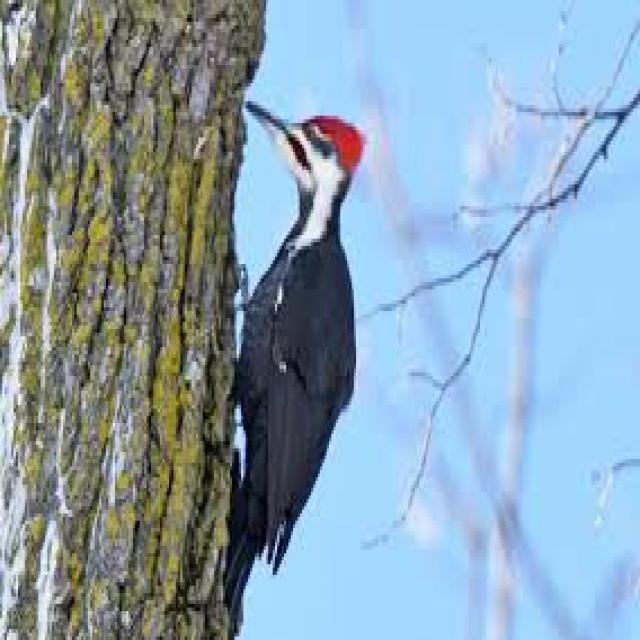Woodpecker: (231, 76, 371, 604)
